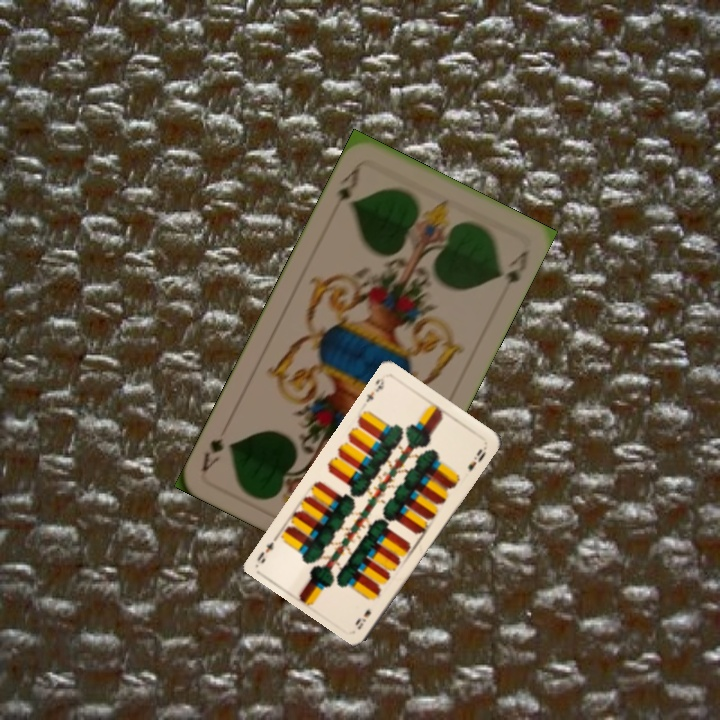E9: (362, 373, 387, 405), (351, 604, 374, 632)
GA: (329, 159, 364, 214)
